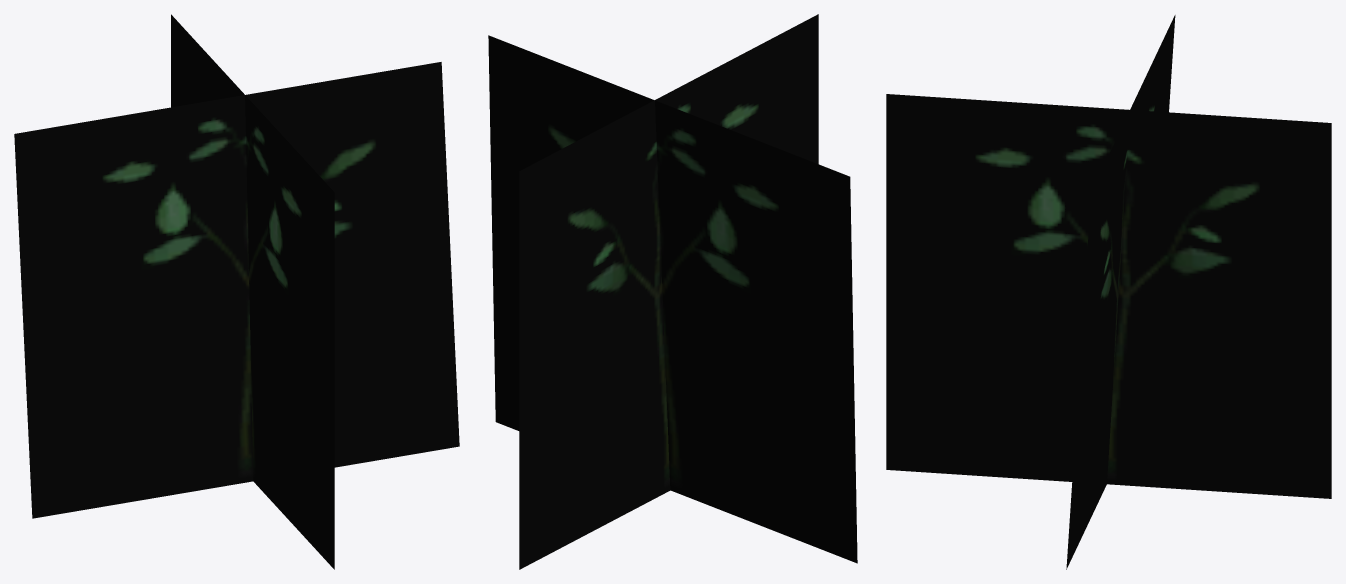
Rendered from leaf_forestsprout_l3.fbx.
3 views of the same model, side by side, from view 1: azimuth 30°, elevation 25°; view 2: azimuth 150°, elevation 25°; view 3: azimuth 270°, elevation 25° (orthographic). The views are drawn at different scales.
Parts seen in each view (by area): view 1: mesh_node; view 2: mesh_node; view 3: mesh_node.
Part boxes in pixels (x1,y1,x2,y2): mesh_node: (14, 14, 459, 569); mesh_node: (488, 14, 857, 569); mesh_node: (886, 15, 1331, 569).
Bounding box in the file's own units: 1.23 × 1.16 × 1.22.
Materials: 1 (1 with a texture image).
